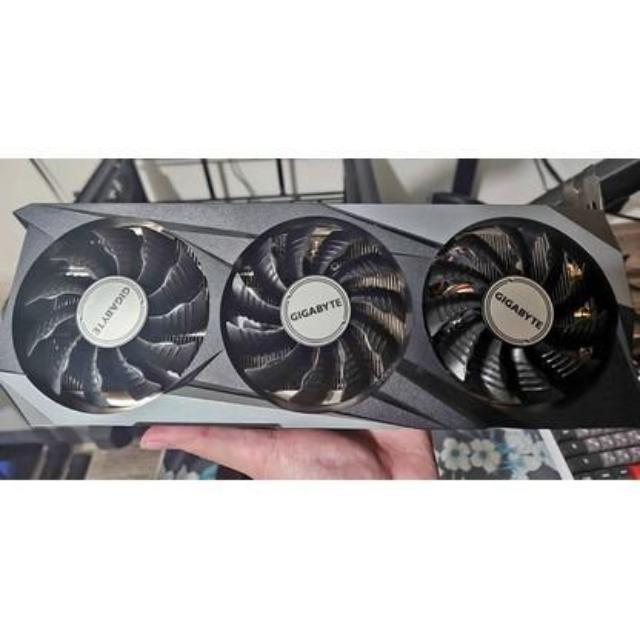GPU: (0, 192, 640, 454)
